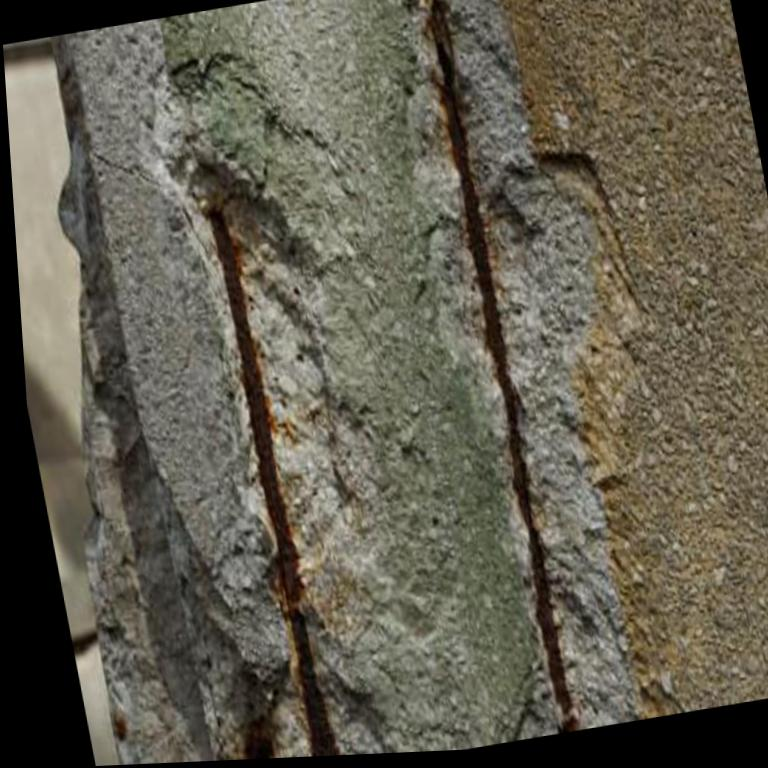crack: (87, 151, 204, 255)
damage: (59, 14, 428, 766), (412, 0, 633, 745)
